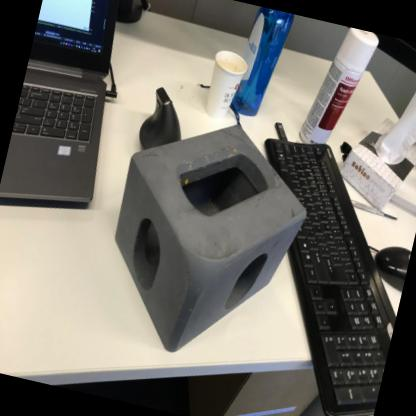CornerCasting: (84, 100, 326, 383)
